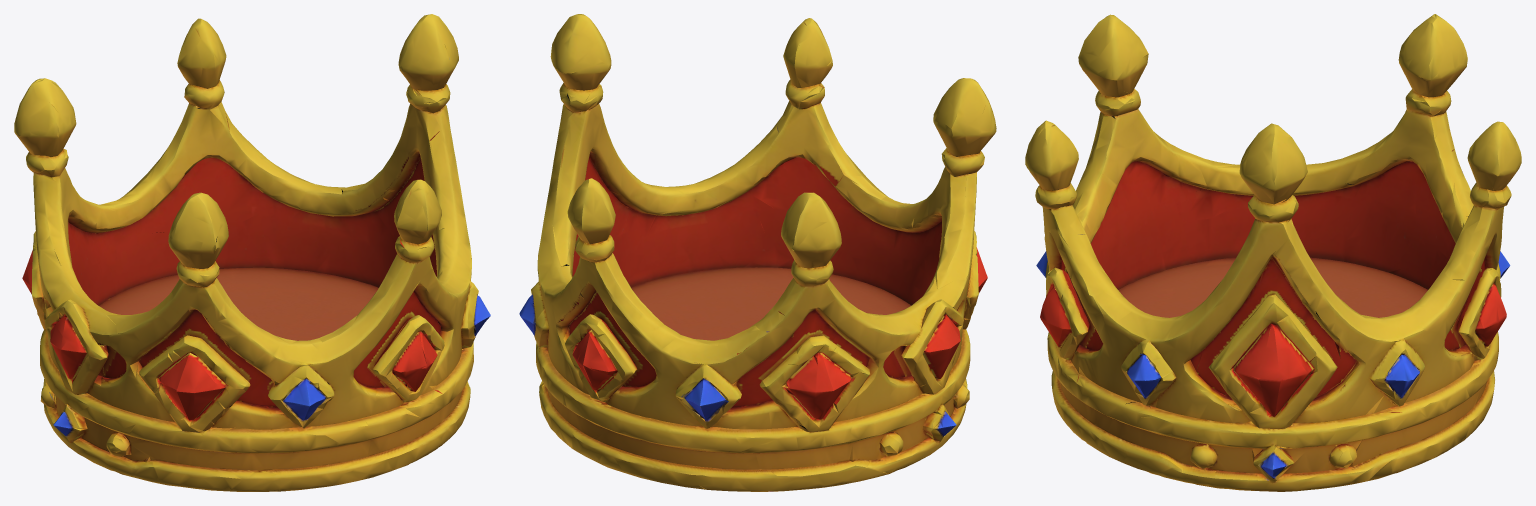
File: crown.glb
3 renders of one model, left to right at view 1: azimuth 30°, elevation 25°; view 2: azimuth 150°, elevation 25°; view 3: azimuth 270°, elevation 25°, orthographic. The views are drawn at different scales.
Parts seen in each view (by area): view 1: crown; view 2: crown; view 3: crown.
Part boxes in pixels (x1,y1,x2,y2): crown: (14,14,490,491); crown: (519,14,996,491); crown: (1025,14,1521,491).
Size of the model in its own units: 0.3302 by 0.272 by 0.3378.
1 material, 1 textured.
